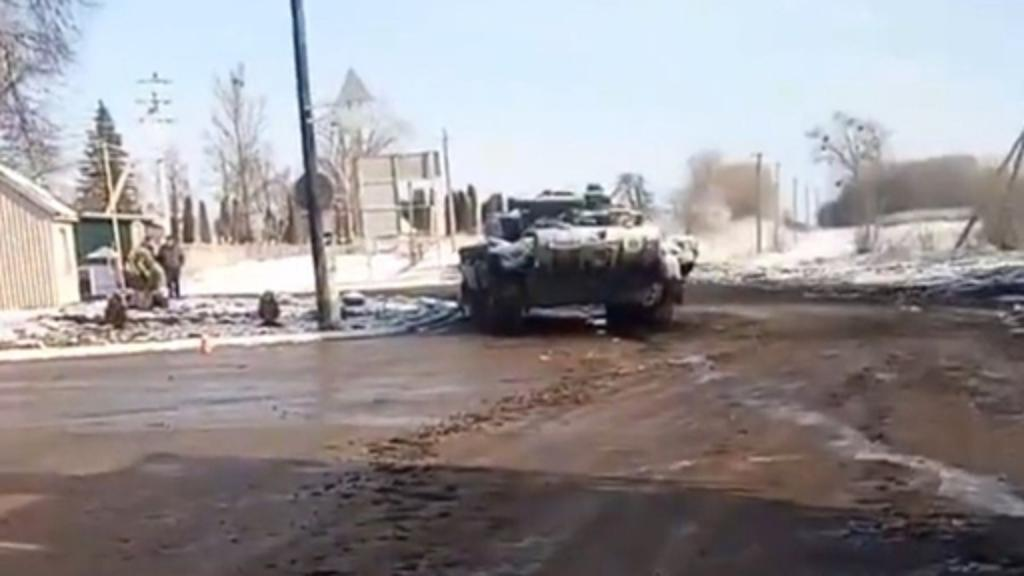TANK: (442, 162, 710, 352)
